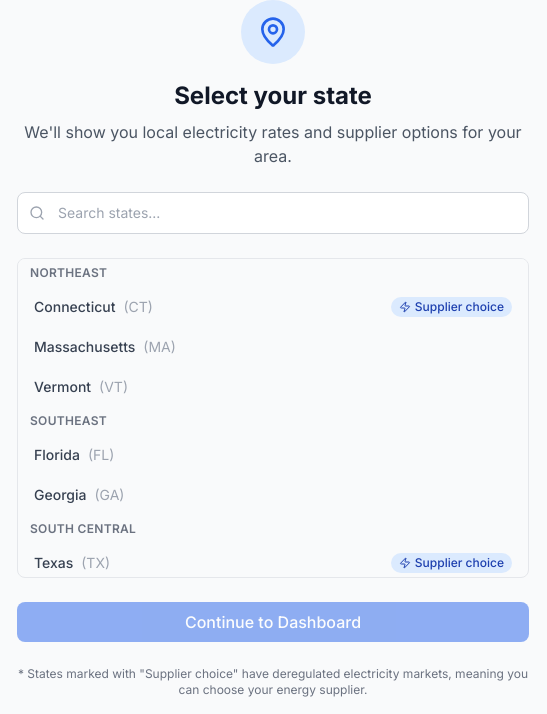
Test: RegionSelector › filters states as the user types in the search input
Type "Con" into the field with placeholder "Search states..." at (273, 213), box 17,192 -> 529,234
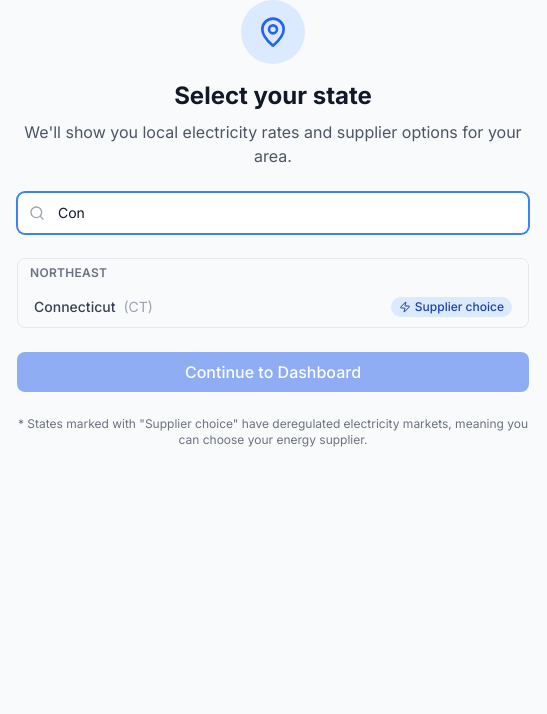
Expected: the text "Connecticut" is shown, 34,297 -> 115,317
Result: the button "Florida" is gone
Result: the button "Texas" is gone
